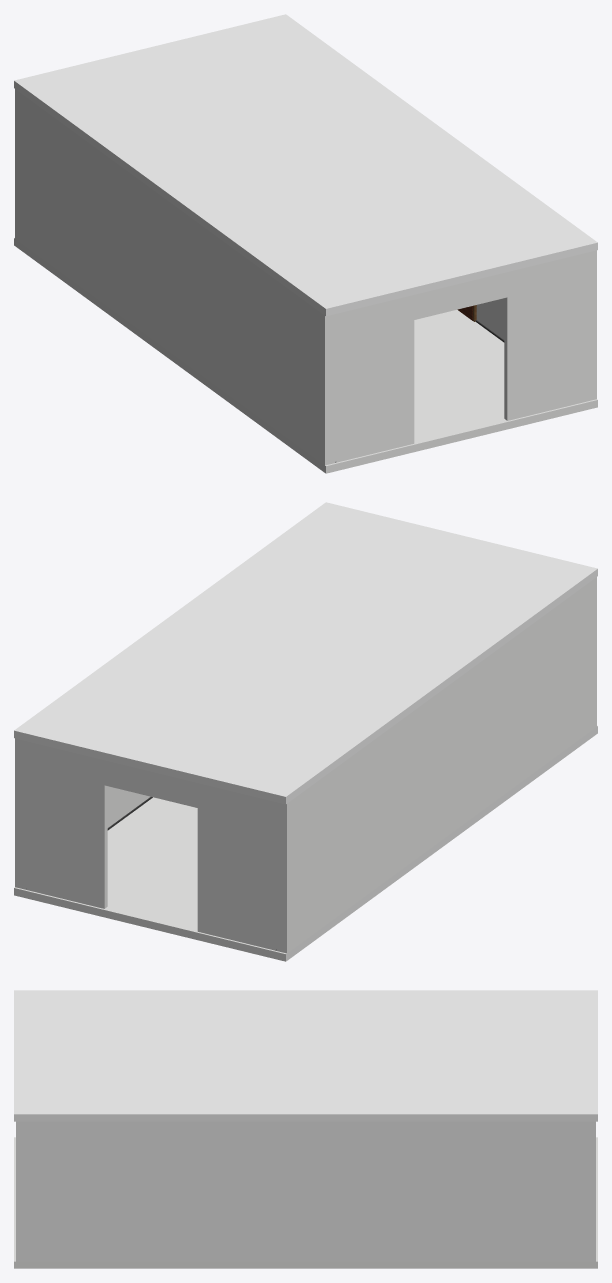
Rendered from room_door_s2.glb.
3 renders of one model, top to bottom at view 1: azimuth 30°, elevation 25°; view 2: azimuth 150°, elevation 25°; view 3: azimuth 270°, elevation 25°, orthographic. The views are drawn at different scales.
Parts seen in each view (by area): view 1: room_door_s2_static; view 2: room_door_s2_static; view 3: room_door_s2_static.
Part boxes in pixels (x1,y1,x2,y2): room_door_s2_static: (14, 14, 597, 473); room_door_s2_static: (14, 502, 597, 961); room_door_s2_static: (14, 990, 597, 1268).
Bounding box in the file's own units: 7.6 × 4.4 × 15.1.
12 materials, 2 textured.
